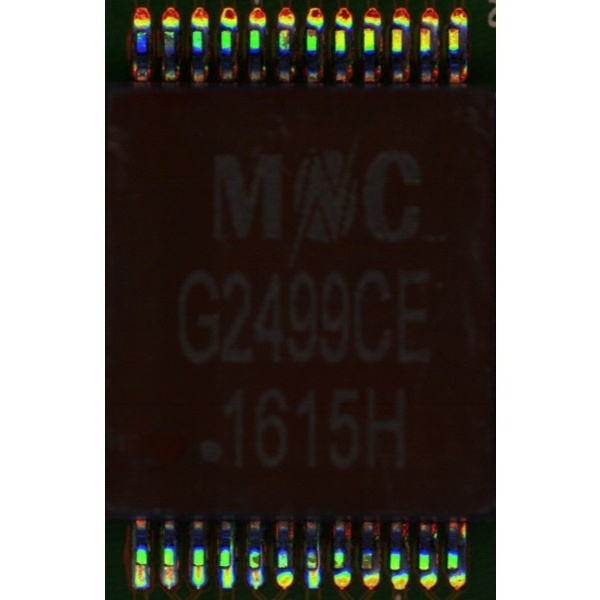Bad_podu: (136, 555, 144, 576), (163, 560, 172, 575), (251, 560, 258, 578), (193, 558, 200, 575), (222, 561, 229, 578)
Bad_qiaojiao: (315, 538, 321, 571), (228, 534, 233, 566)
